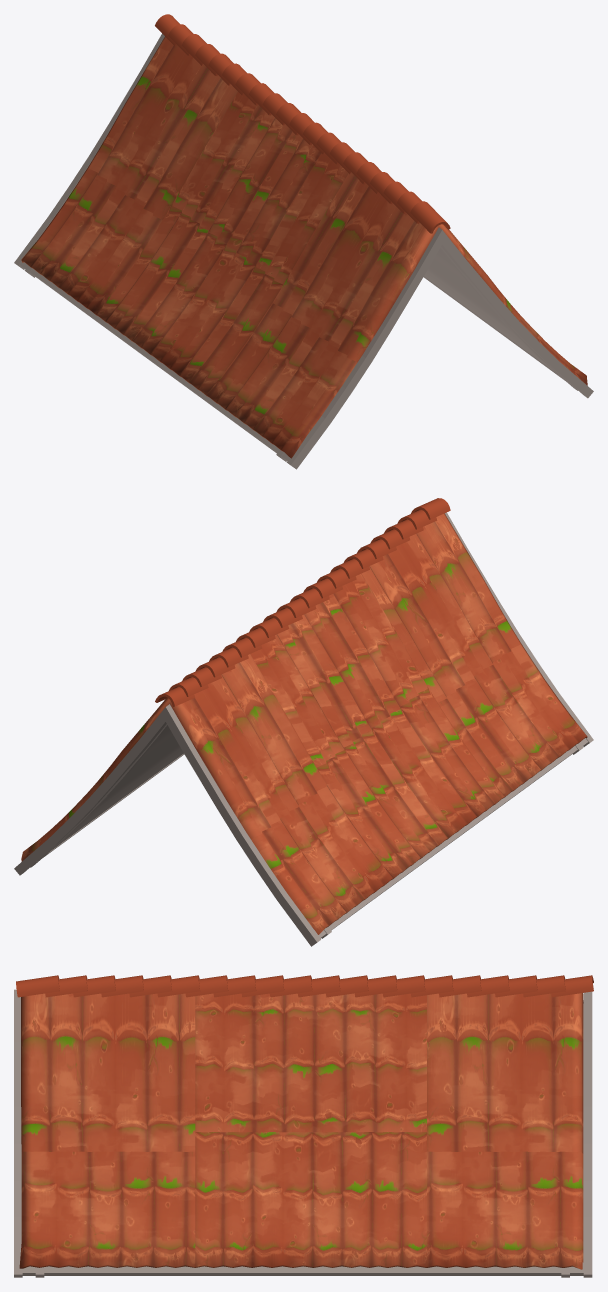
File: Roof_RoundTiles_8x14.gltf
3 views of the same model, one above another, from view 1: azimuth 30°, elevation 25°; view 2: azimuth 150°, elevation 25°; view 3: azimuth 270°, elevation 25° (orthographic). The views are drawn at different scales.
Parts seen in each view (by area): view 1: Roof_RoundTiles_8x14; view 2: Roof_RoundTiles_8x14; view 3: Roof_RoundTiles_8x14.
Boxes of the visible parts, left/top/right/bottom form: Roof_RoundTiles_8x14: left=14, top=14, right=593, bottom=469; Roof_RoundTiles_8x14: left=14, top=498, right=593, bottom=946; Roof_RoundTiles_8x14: left=14, top=975, right=593, bottom=1277.
Size of the model in its own units: 9.95 by 6.78 by 15.71.
Materials: 2 (2 with a texture image).
